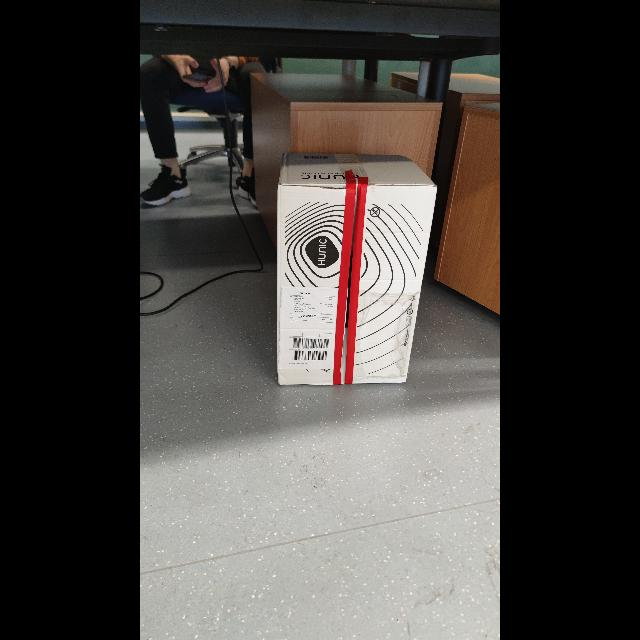cardboard_box: (224, 127, 484, 413)
